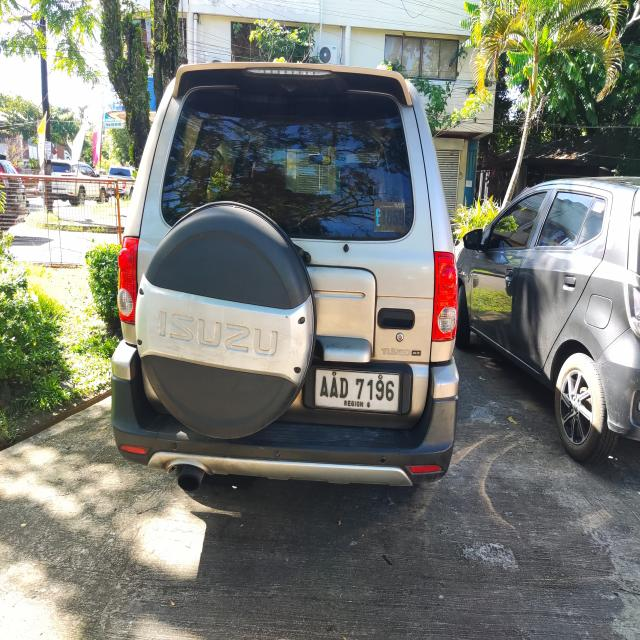plate: (312, 366, 402, 414)
